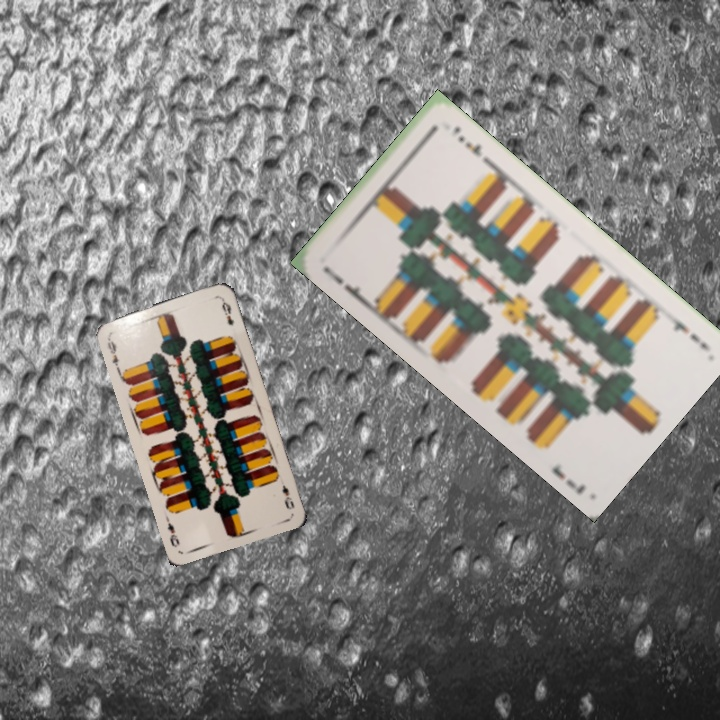E7: (318, 262, 368, 305), (662, 307, 710, 351)
E9: (103, 332, 122, 372), (278, 481, 297, 512)
